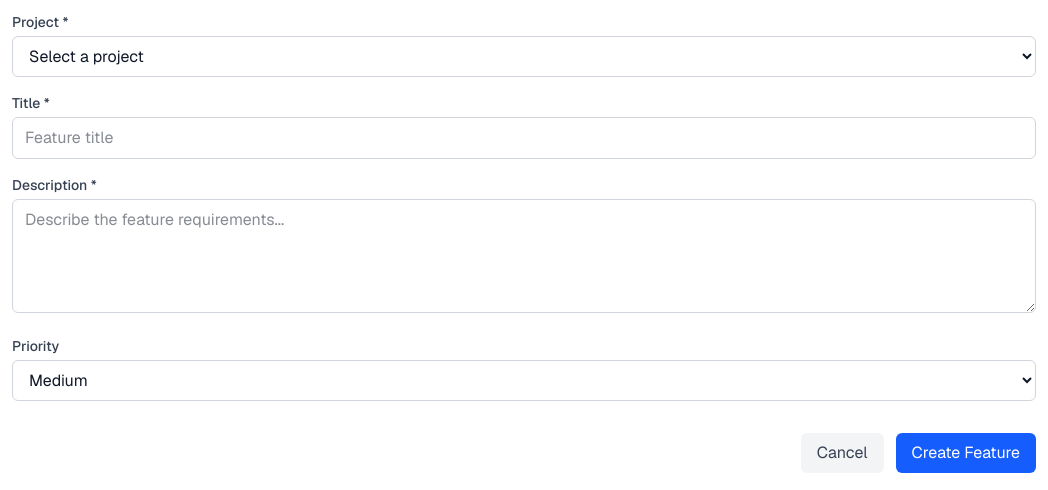
Test: FeatureForm › Common behaviour › should disable submit button while loading
Select "Project One" in the dropdown labelled "Project *": (524, 56) [12, 36, 1036, 77]
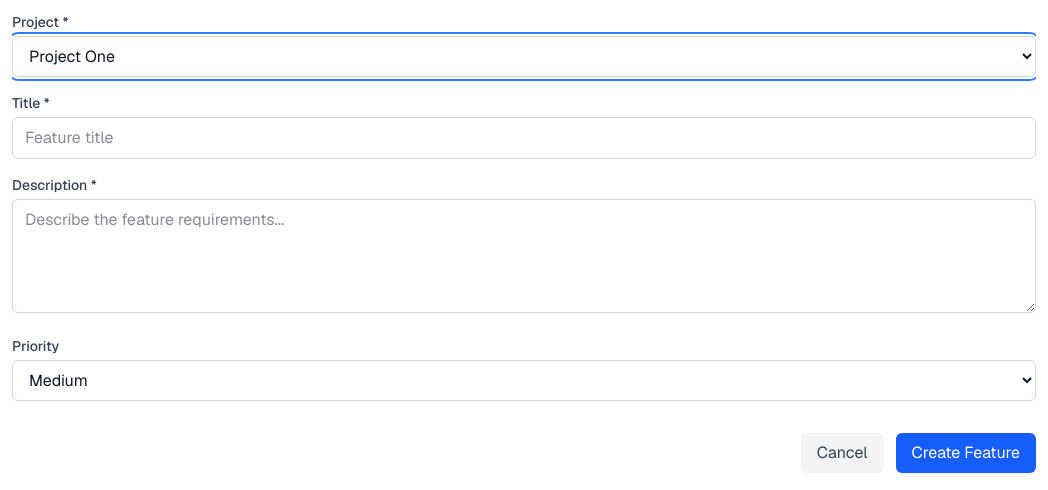
In the field labelled "Title *": (524, 138) [12, 117, 1036, 159], type "New Feature"
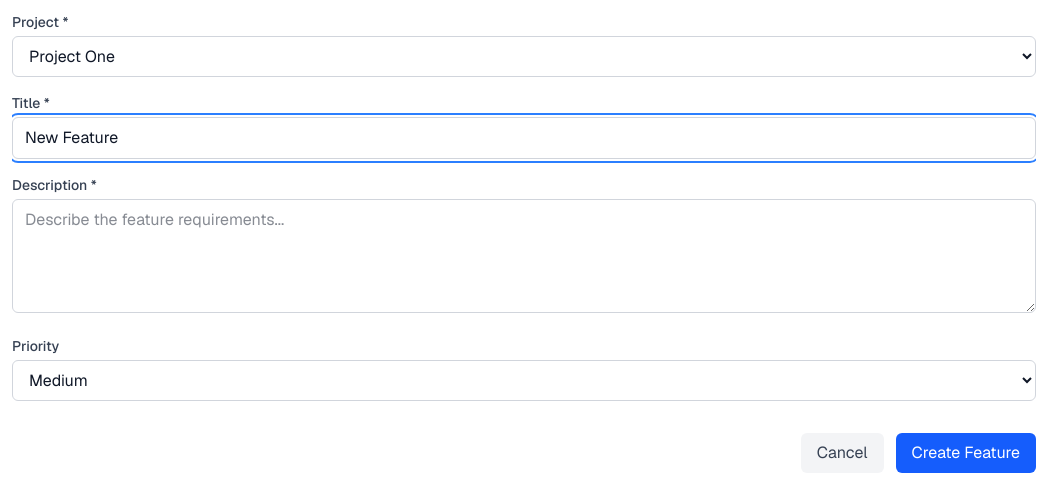
In the text box labelled "Description *": (524, 256) [12, 199, 1036, 313], type "Feature description"
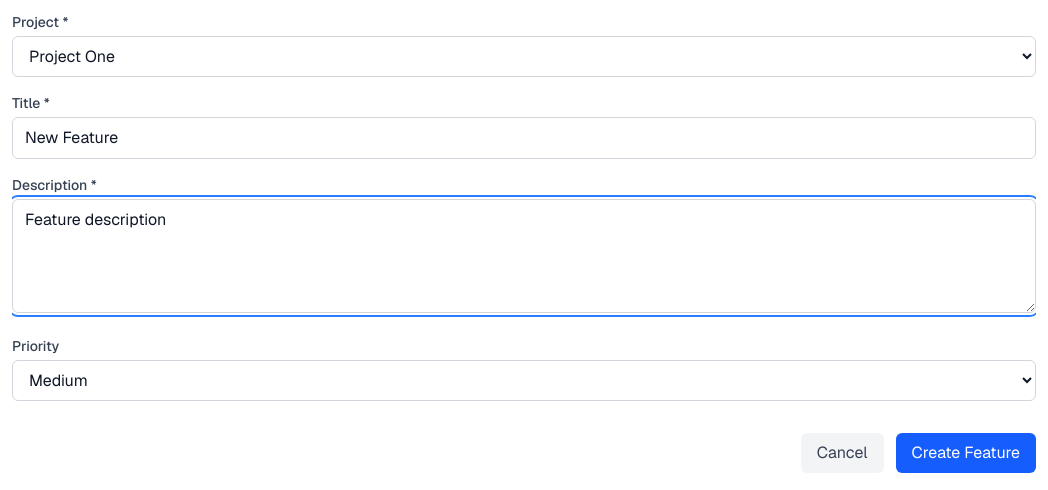
Click the button "Create Feature": (966, 453) [896, 433, 1036, 473]
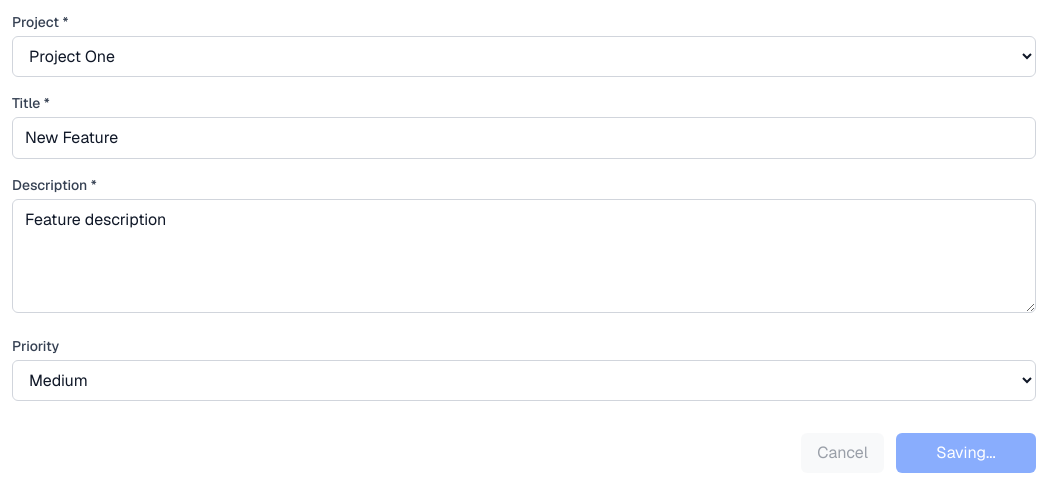
Now the button named "create feature" is disabled, box [896, 433, 1036, 473]
